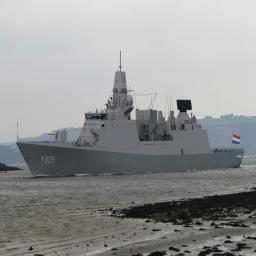Fragata: (17, 47, 247, 182)
